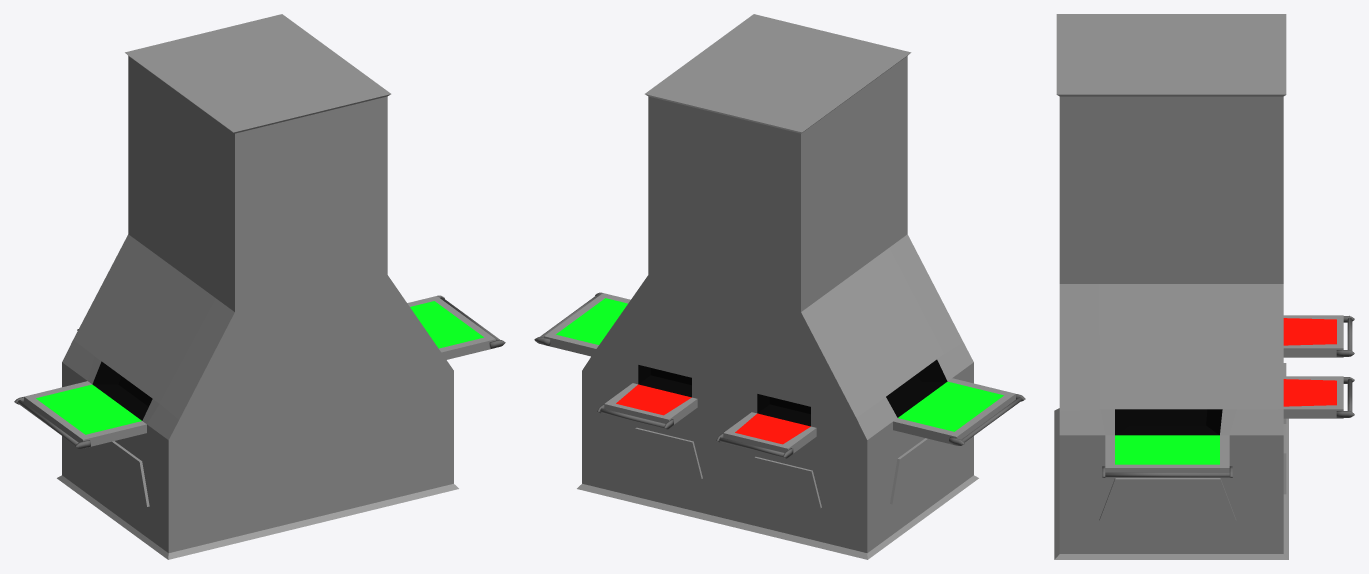
File: Oven.fbx
3 renders of one model, left to right at view 1: azimuth 30°, elevation 25°; view 2: azimuth 150°, elevation 25°; view 3: azimuth 270°, elevation 25°, orthographic. The views are drawn at different scales.
Parts seen in each view (by area): view 1: Oven; view 2: Oven; view 3: Oven.
Part boxes in pixels (bbox=[...]): Oven: bbox=[14, 14, 505, 559]; Oven: bbox=[534, 14, 1025, 559]; Oven: bbox=[1054, 14, 1354, 559].
Size of the model in its own units: 906 by 827 by 522.
